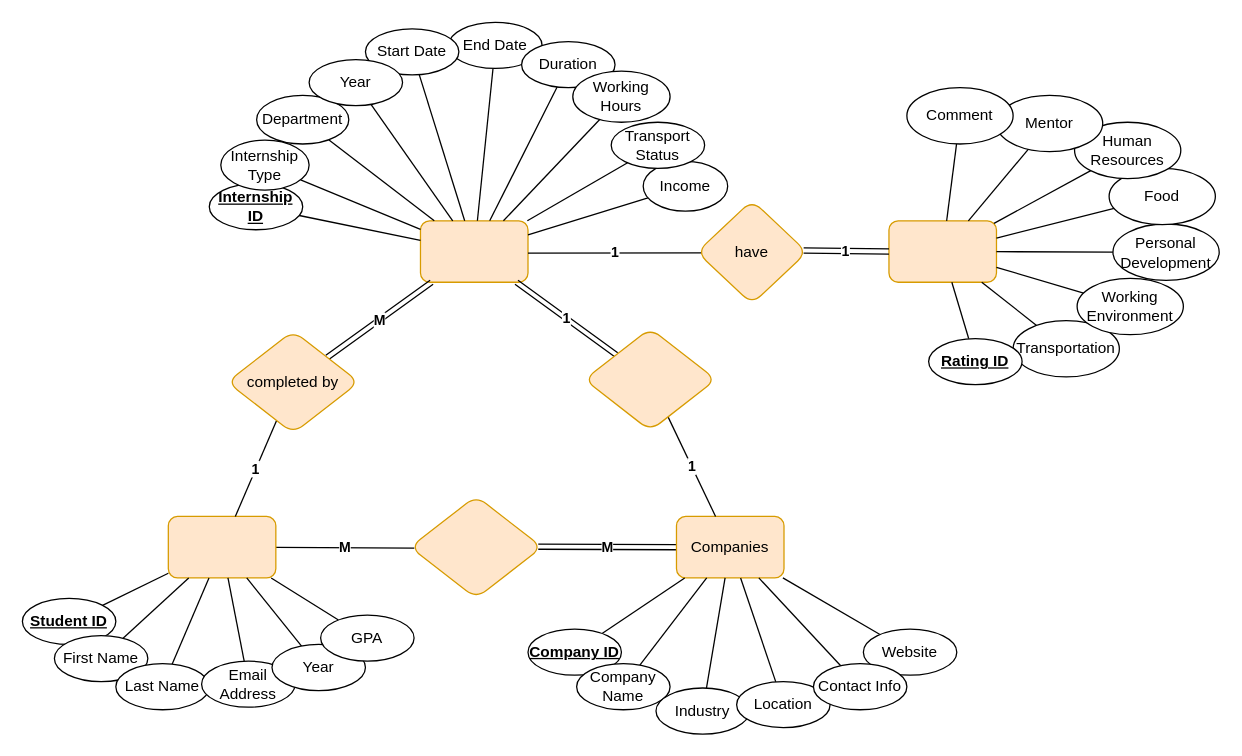
Image size: 1242x756. Some labels were removed from this diagram. The shapes that lost their labels are listed below. From the top down, each one's box as (x1, y1, x2, y2) in pixels, then its label:
(419, 220, 528, 282): Internships
(888, 220, 996, 282): Ratings
(583, 327, 716, 431): completed at
(167, 515, 276, 578): Students
(409, 495, 542, 598): works at
